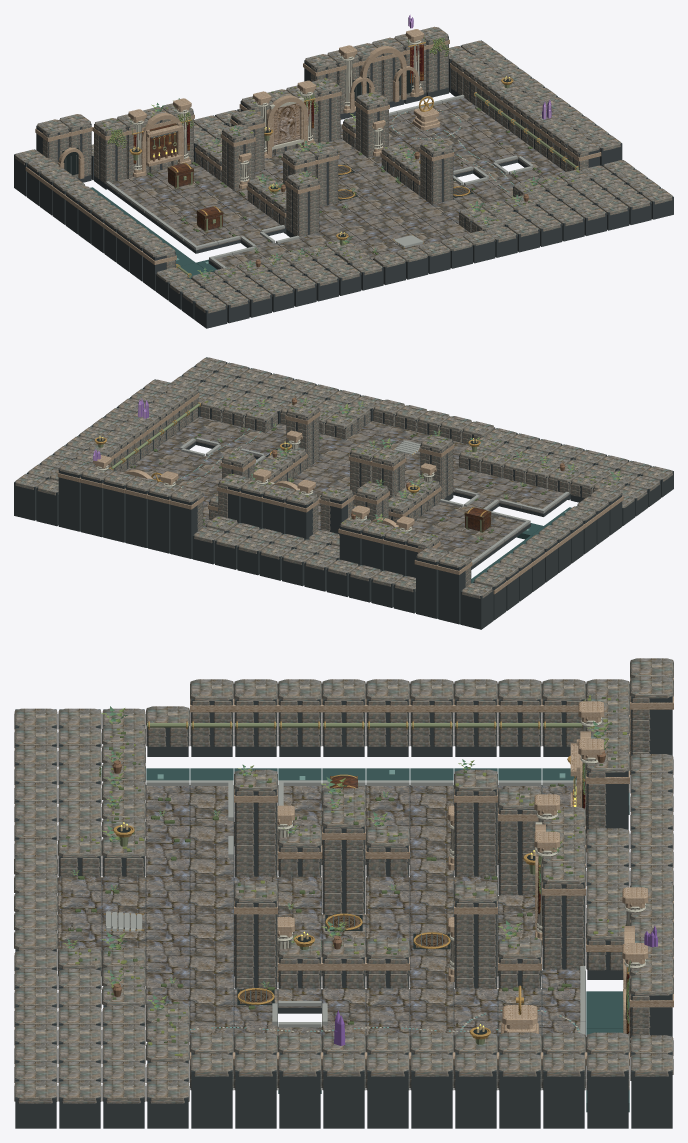
The model's file is cistern.glb.
The picture shows the model from 3 angles, top to bottom: view 1: azimuth 30°, elevation 25°; view 2: azimuth 150°, elevation 25°; view 3: azimuth 270°, elevation 25°; orthographic projection. The views are drawn at different scales.
Parts seen in each view (by area): view 1: Ancient masonry, Wet paving, Mortar and deep recesses, Carved acanthus, Cut limestone edge, Ivory worn edge, Spring saint relief, Moss sun tips, Drowned foundations, Moss shadow, Black slot, Fern sage (+6 smaller); view 2: Ancient masonry, Mortar and deep recesses, Wet paving, Carved acanthus, Cut limestone edge, Moss shadow, Moss sun tips, Fern dark, Drowned foundations, Ivory worn edge, Verdigris bronze; view 3: Ancient masonry, Wet paving, Mortar and deep recesses, Carved acanthus, Drowned foundations, Cut limestone edge, Verdigris bronze, Moss shadow, Ivory worn edge, Polished bronze edge, Fern dark, Moss sun tips (+2 smaller).
Part boxes in pixels (x1,y1,x2,y2): Ancient masonry: (15, 26, 672, 313); Wet paving: (106, 98, 565, 268); Mortar and deep recesses: (14, 36, 673, 328); Carved acanthus: (25, 29, 601, 264); Cut limestone edge: (106, 94, 533, 268); Ivory worn edge: (131, 39, 508, 189); Spring saint relief: (274, 103, 300, 145); Moss sun tips: (103, 38, 579, 280); Drowned foundations: (90, 187, 216, 278); Moss shadow: (102, 81, 567, 278); Black slot: (62, 69, 511, 237); Fern sage: (107, 38, 537, 277); Ancient masonry: (15, 357, 672, 598); Mortar and deep recesses: (14, 357, 673, 629); Wet paving: (124, 416, 568, 566); Carved acanthus: (57, 392, 623, 594); Cut limestone edge: (180, 437, 569, 564); Moss shadow: (130, 402, 610, 542); Moss sun tips: (80, 398, 615, 540); Fern dark: (76, 399, 624, 538); Drowned foundations: (80, 507, 571, 624); Ivory worn edge: (96, 433, 434, 531); Verdigris bronze: (98, 403, 477, 494); Ancient masonry: (14, 658, 673, 1103); Wet paving: (58, 785, 580, 1081); Mortar and deep recesses: (15, 677, 672, 1128); Carved acanthus: (190, 677, 673, 1065); Drowned foundations: (146, 768, 629, 1112); Cut limestone edge: (105, 780, 585, 1034); Verdigris bronze: (119, 723, 630, 1044); Moss shadow: (66, 697, 626, 1043); Ivory worn edge: (196, 717, 645, 1044); Polished bronze edge: (104, 721, 629, 1039); Fern dark: (67, 699, 629, 1046); Moss sun tips: (62, 695, 628, 1056).
Size of the model in its own units: 20.99 by 4.02 by 15.
25 materials, 7 textured.
